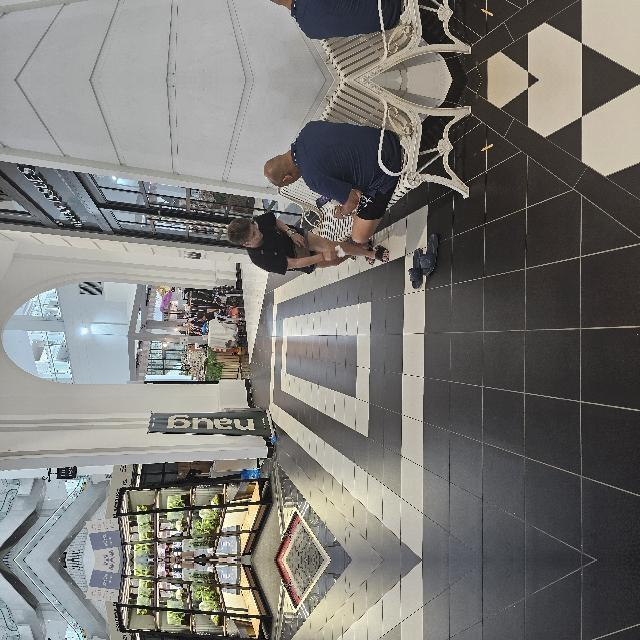obstacle: (349, 398, 479, 552), (0, 192, 84, 352), (349, 568, 479, 640)
person: (314, 342, 440, 482), (285, 307, 349, 469), (314, 638, 439, 640)
